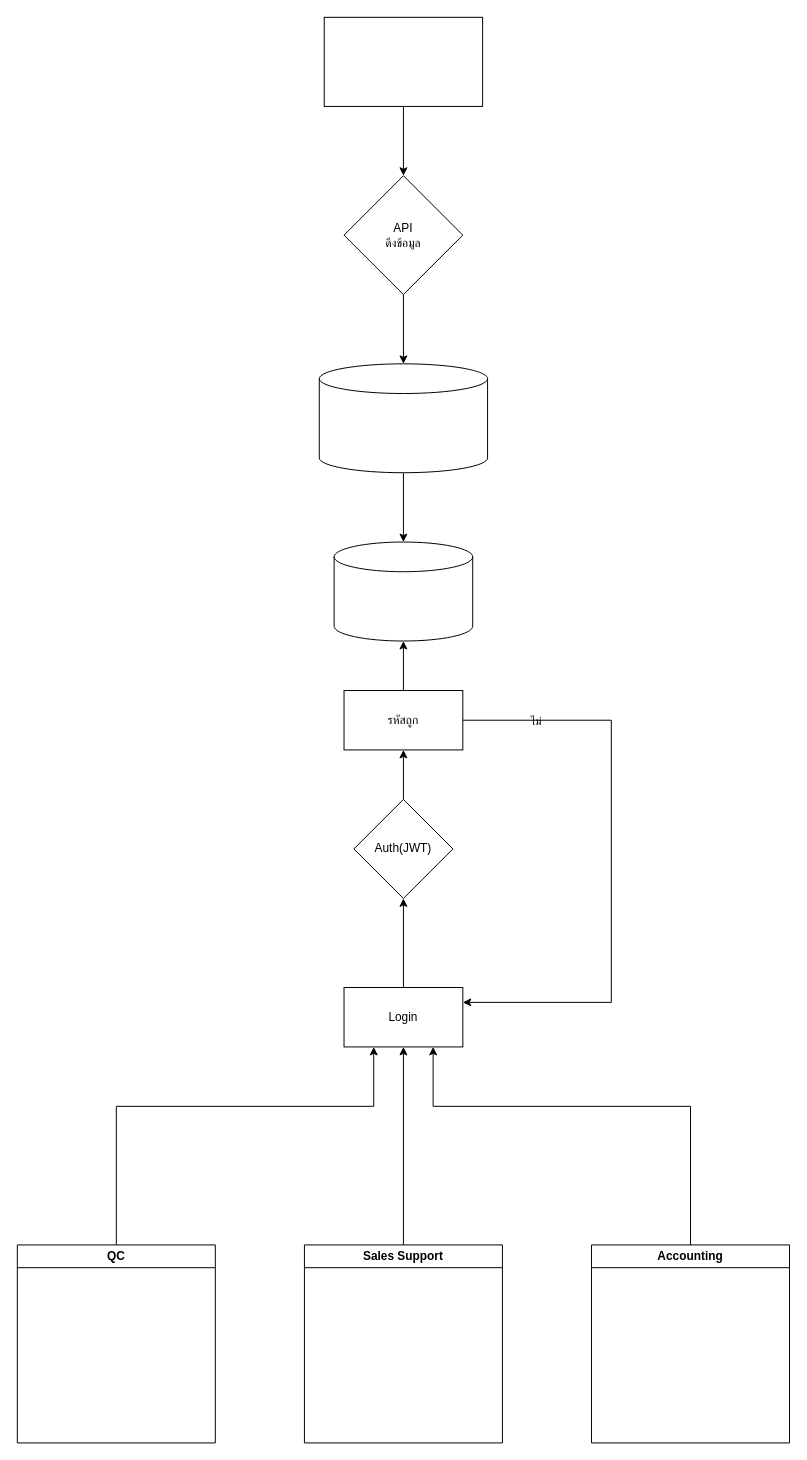
Some shapes in this 807 by 1460 pixel diagram are drawn without their labels. The centre of each missing label's shape, as x and y in pixels:
"DB" belongs at point 403,591.
"Email" belongs at point 403,61.
"อีเมลล์กลาง" belongs at point 403,418.
